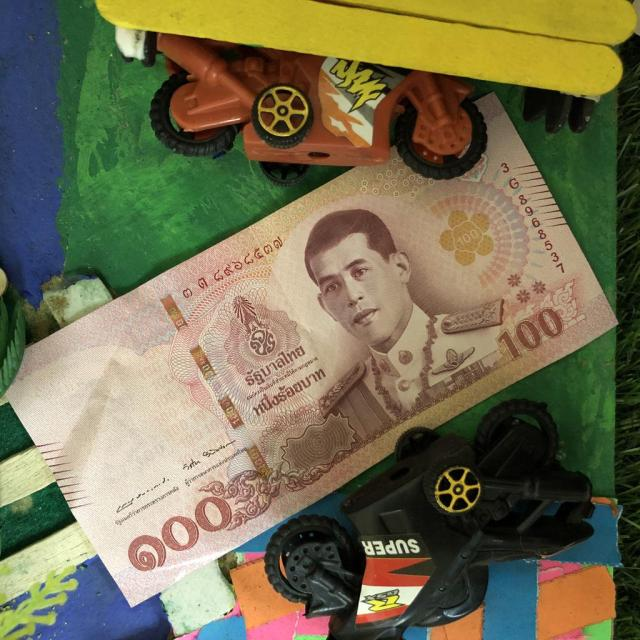THAI100: (6, 94, 616, 605)
